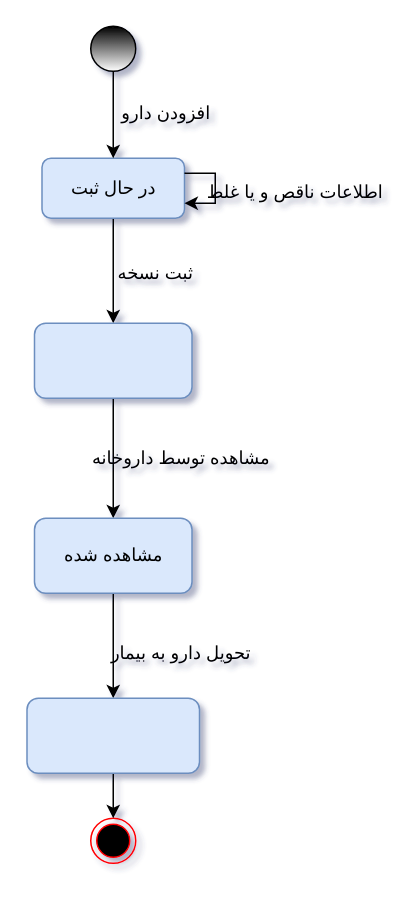
This 417x899 diagram has some shape labels left out. Each missing label, with the centre of its shape:
"ثبت شده" goes at point 112,360.
"نسخه گرفته شده" goes at point 113,735.
